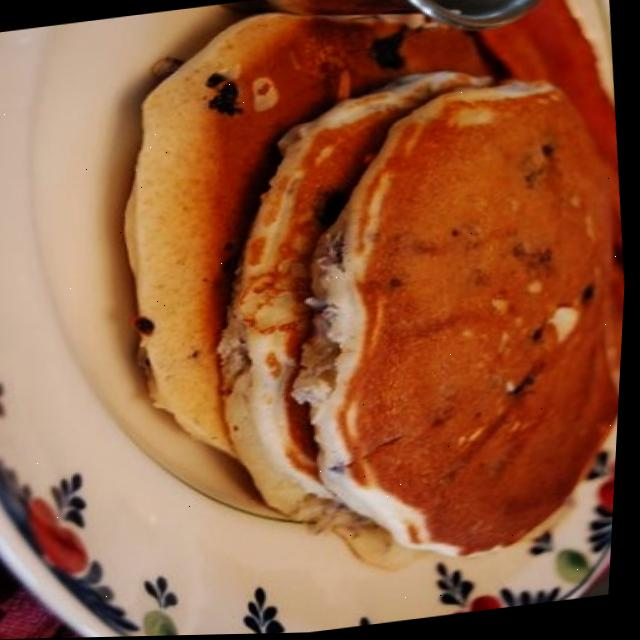蛋糕甜品: (81, 0, 640, 595)
